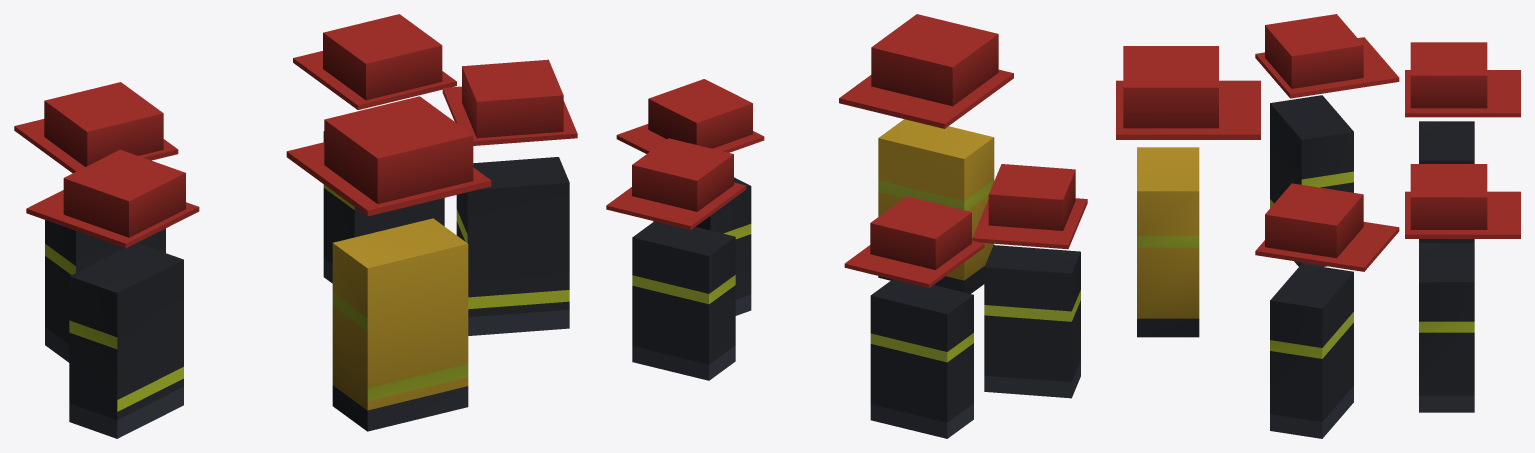
File: engine-six-lod3.glb
3 views of the same model, side by side, from view 1: azimuth 30°, elevation 25°; view 2: azimuth 150°, elevation 25°; view 3: azimuth 270°, elevation 25° (orthographic). The views are drawn at different scales.
Visible parts, largest first — view 1: cap_torso, att3_torso, att2_torso, cap_hat, att3_hat, att0_hat, att1_hat, att2_hat, att1_torso, att0_torso; view 2: att0_torso, att1_torso, att3_torso, cap_hat, cap_torso, att0_hat, att1_hat, att3_hat, att2_hat, att2_torso; view 3: att2_torso, cap_torso, cap_hat, att0_torso, att2_hat, att3_hat, att1_hat, att0_hat, att3_torso, att1_torso.
Part boxes in pixels (x1,y1,x2,y2): cap_torso: [332, 218, 468, 431]; att3_torso: [69, 243, 183, 438]; att2_torso: [456, 157, 569, 335]; cap_hat: [286, 96, 491, 216]; att3_hat: [26, 149, 199, 248]; att0_hat: [293, 14, 456, 109]; att1_hat: [14, 82, 178, 173]; att2_hat: [442, 59, 577, 145]; att1_torso: [45, 220, 165, 362]; att0_torso: [323, 131, 444, 283]; att0_torso: [632, 221, 735, 380]; att1_torso: [870, 279, 973, 438]; att3_torso: [984, 245, 1080, 398]; cap_hat: [839, 14, 1013, 128]; cap_torso: [878, 119, 994, 293]; att0_hat: [606, 138, 746, 229]; att1_hat: [844, 196, 984, 288]; att3_hat: [972, 164, 1087, 249]; att2_hat: [616, 79, 764, 153]; att2_torso: [653, 177, 751, 315]; att2_torso: [1270, 264, 1353, 438]; cap_torso: [1137, 147, 1199, 337]; cap_hat: [1116, 46, 1260, 139]; att0_torso: [1419, 243, 1474, 412]; att2_hat: [1255, 183, 1399, 271]; att3_hat: [1255, 14, 1399, 98]; att1_hat: [1405, 42, 1520, 117]; att0_hat: [1405, 164, 1520, 238]; att3_torso: [1270, 95, 1353, 266]; att1_torso: [1419, 121, 1474, 242].
Size of the model in its own units: 2.35 by 1.26 by 1.74.
